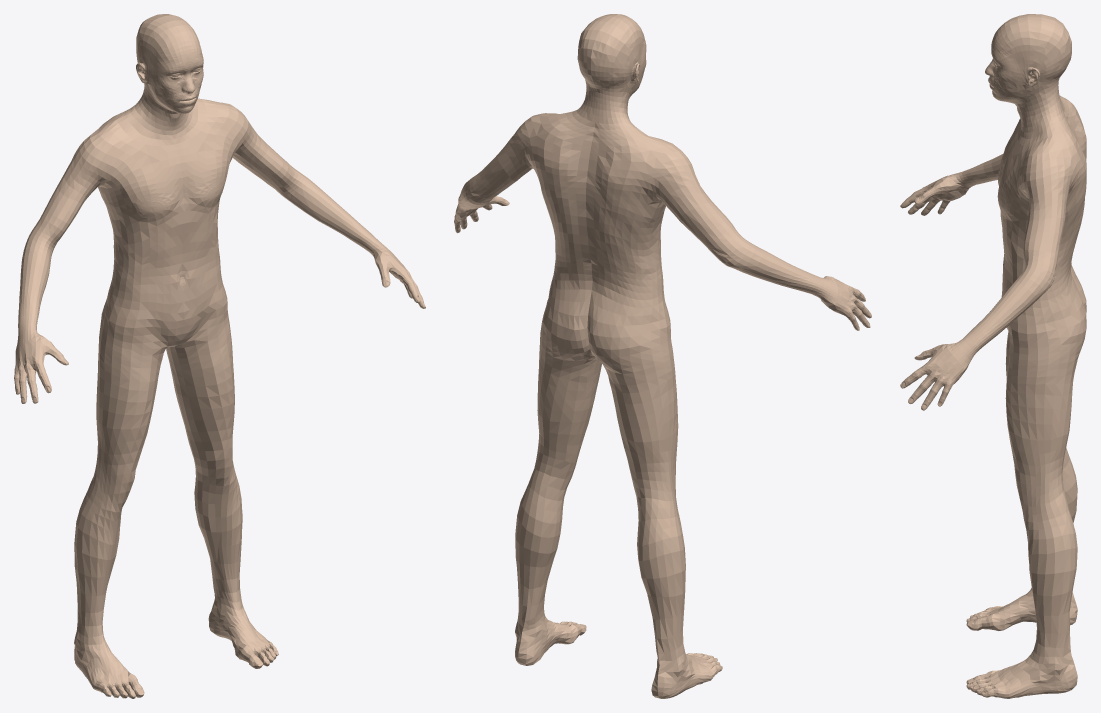
Rendered from male-adult-lean-strong.glb.
3 renders of one model, left to right at view 1: azimuth 30°, elevation 25°; view 2: azimuth 150°, elevation 25°; view 3: azimuth 270°, elevation 25°, orthographic.
Parts seen in each view (by area): view 1: world; view 2: world; view 3: world.
Part boxes in pixels (<box>): world: <box>14,14,425,698</box>; world: <box>454,14,871,698</box>; world: <box>900,14,1086,698</box>.
Bounding box in the file's own units: 1.28 × 1.95 × 0.5133.
